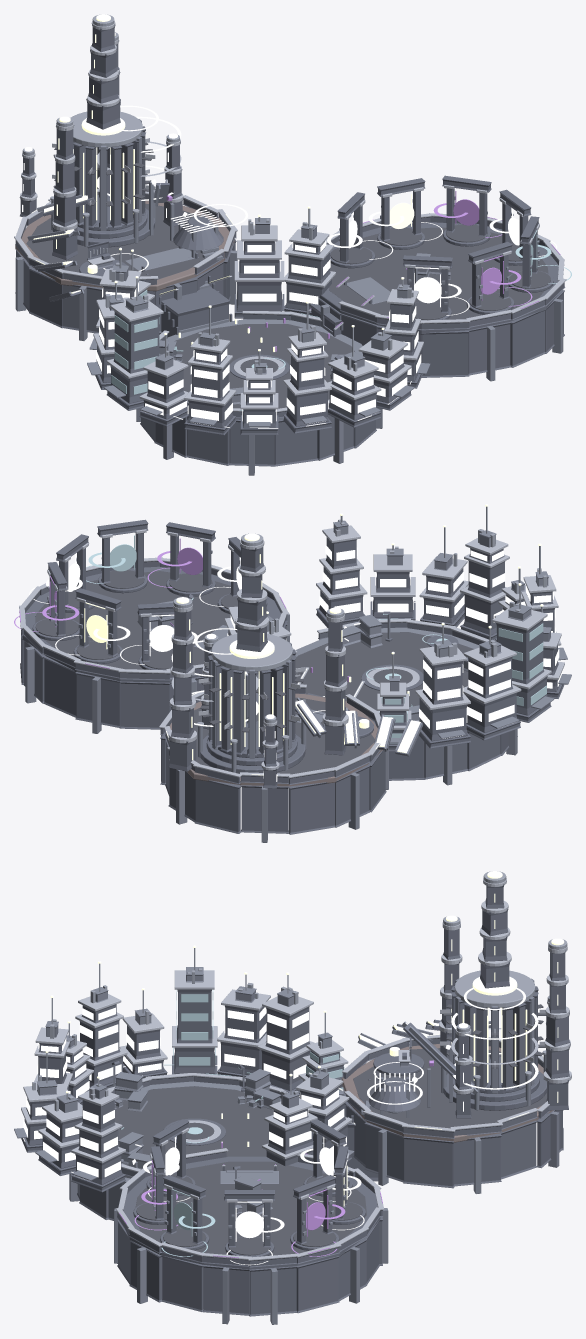
The model's file is lobby_v3.fbx.
3 views of the same model, one above another, from view 1: azimuth 30°, elevation 25°; view 2: azimuth 150°, elevation 25°; view 3: azimuth 270°, elevation 25° (orthographic). The views are drawn at different scales.
Parts seen in each view (by area): view 1: GRATE__Terraco_Piso, GRATE__Praca_Piso, GRATE__Refinaria_Piso, HULLDARK__EscadaoNorte_Sapata, HULLDARK__Terraco_Saia.011, HULLDARK__Terraco_Saia.012, HULLDARK__Terraco_Saia.013, HULLDARK__Terraco_Laje, PLATEWARM__Refinaria_Laje, HULLDARK__Loja09_Corpo.001, HULLDARK__Praca_Saia.011, HULLDARK__Refinaria_Saia.007 (+31 smaller); view 2: GRATE__Terraco_Piso, GRATE__Praca_Piso, HULLDARK__Terraco_Saia.005, GRATE__Refinaria_Piso, HULLDARK__Refinaria_Saia.005, HULLDARK__Refinaria_Saia.003, HULLDARK__Refinaria_Saia.004, HULLDARK__Terraco_Saia.004, HULLLIGHT__Reator_Tampa, HULLDARK__Terraco_Saia.003, HULLDARK__Terraco_Laje, HULLDARK__Loja09_Corpo.001 (+67 smaller); view 3: GRATE__Praca_Piso, GRATE__Terraco_Piso, GRATE__Refinaria_Piso, HULLDARK__Refinaria_Saia.013, HULLDARK__Terraco_Laje, HULLDARK__Terraco_Saia.001, HULLDARK__Terraco_Saia, HULLDARK__Terraco_Saia.015, HULLDARK__Terraco_Saia.016, HULLDARK__Refinaria_Saia, HULLDARK__Refinaria_Saia.001, HULLLIGHT__Reator_Tampa (+36 smaller).
Part boxes in pixels (box(x1,y1,x2,y2)): GRATE__Terraco_Piso: box(329, 227, 548, 319); GRATE__Praca_Piso: box(174, 324, 354, 408); GRATE__Refinaria_Piso: box(26, 203, 222, 279); HULLDARK__EscadaoNorte_Sapata: box(159, 286, 229, 336); HULLDARK__Terraco_Saia.011: box(421, 330, 469, 377); HULLDARK__Terraco_Saia.012: box(468, 322, 511, 375); HULLDARK__Terraco_Saia.013: box(510, 311, 545, 367); HULLDARK__Terraco_Laje: box(320, 223, 558, 334); PLATEWARM__Refinaria_Laje: box(15, 200, 234, 291); HULLDARK__Loja09_Corpo.001: box(113, 311, 159, 373); HULLDARK__Praca_Saia.011: box(274, 420, 317, 466); HULLDARK__Refinaria_Saia.007: box(29, 267, 62, 328); GRATE__Terraco_Piso: box(35, 571, 268, 669); GRATE__Praca_Piso: box(295, 632, 474, 721); HULLDARK__Terraco_Saia.005: box(119, 681, 169, 729); GRATE__Refinaria_Piso: box(194, 697, 374, 774); HULLDARK__Refinaria_Saia.005: box(288, 782, 334, 834); HULLDARK__Refinaria_Saia.003: box(195, 779, 241, 833); HULLDARK__Refinaria_Saia.004: box(241, 785, 288, 833); HULLDARK__Terraco_Saia.004: box(75, 672, 120, 727); HULLLIGHT__Reator_Tampa: box(211, 634, 292, 671); HULLDARK__Terraco_Saia.003: box(43, 656, 76, 717); HULLDARK__Terraco_Laje: box(22, 566, 280, 683); HULLDARK__Loja09_Corpo.001: box(496, 619, 544, 684); GRATE__Praca_Piso: box(114, 1086, 273, 1165); GRATE__Terraco_Piso: box(135, 1161, 366, 1255); GRATE__Refinaria_Piso: box(353, 1048, 546, 1128); HULLDARK__Refinaria_Saia.013: box(403, 1136, 454, 1188); HULLDARK__Terraco_Laje: box(123, 1156, 380, 1269); HULLDARK__Terraco_Saia.001: box(296, 1256, 339, 1313); HULLDARK__Terraco_Saia: box(249, 1266, 297, 1316); HULLDARK__Terraco_Saia.015: box(162, 1255, 203, 1311); HULLDARK__Terraco_Saia.016: box(203, 1265, 249, 1315); HULLDARK__Refinaria_Saia: box(454, 1133, 501, 1186); HULLDARK__Refinaria_Saia.001: box(499, 1120, 536, 1179); HULLLIGHT__Reator_Tampa: box(454, 970, 535, 1007).
Size of the model in its own units: 285 by 175 by 284.
